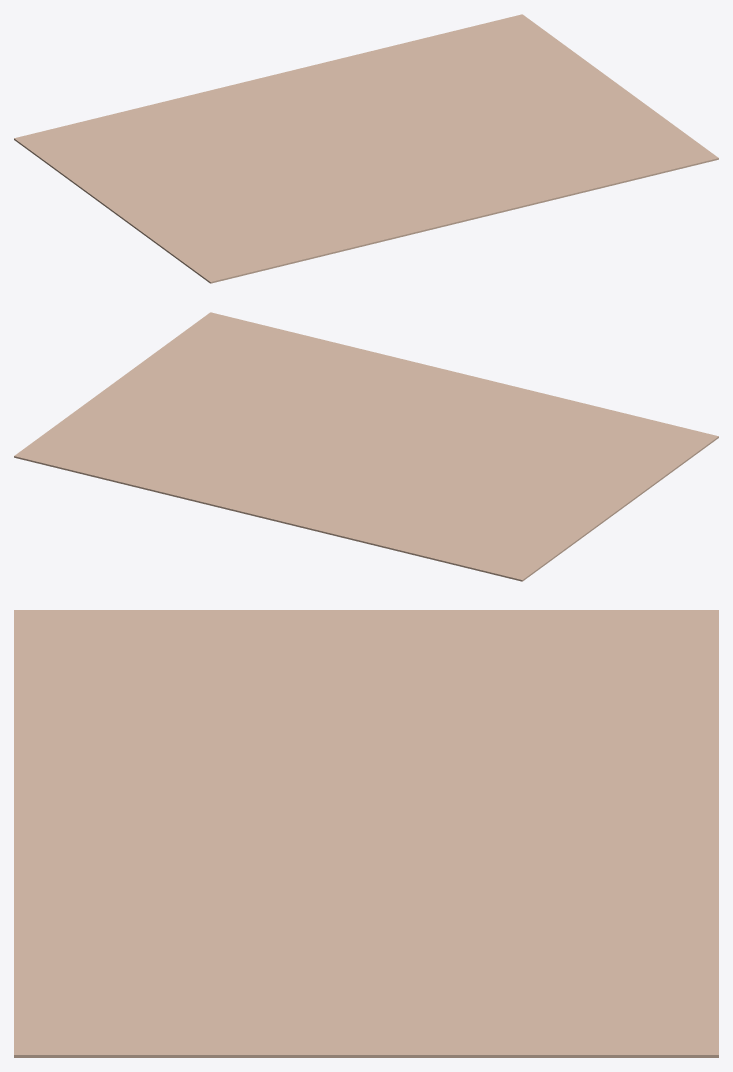
File: GroundLow.fbx
3 renders of one model, top to bottom at view 1: azimuth 30°, elevation 25°; view 2: azimuth 150°, elevation 25°; view 3: azimuth 270°, elevation 25°, orthographic. The views are drawn at different scales.
Parts seen in each view (by area): view 1: Floor; view 2: Floor; view 3: Floor.
Boxes of the visible parts, x1,y1,x2,y2 form: Floor: (14, 14, 718, 283); Floor: (14, 312, 718, 581); Floor: (14, 610, 718, 1057).
Bounding box in the file's own units: 3469 × 10.36 × 2322.
